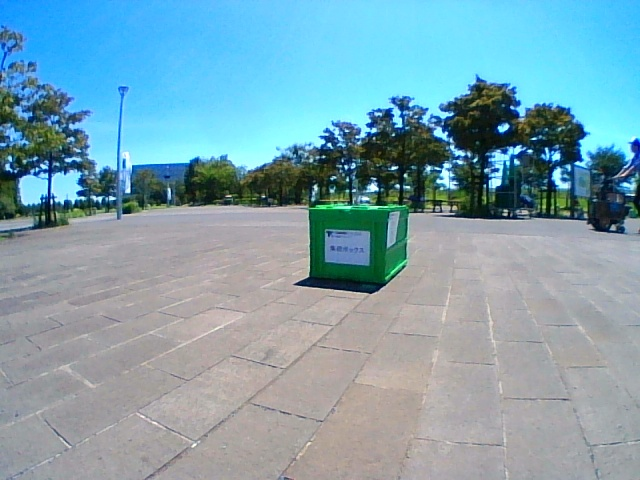green_box: (309, 204, 408, 282)
tag: (389, 211, 397, 246)
